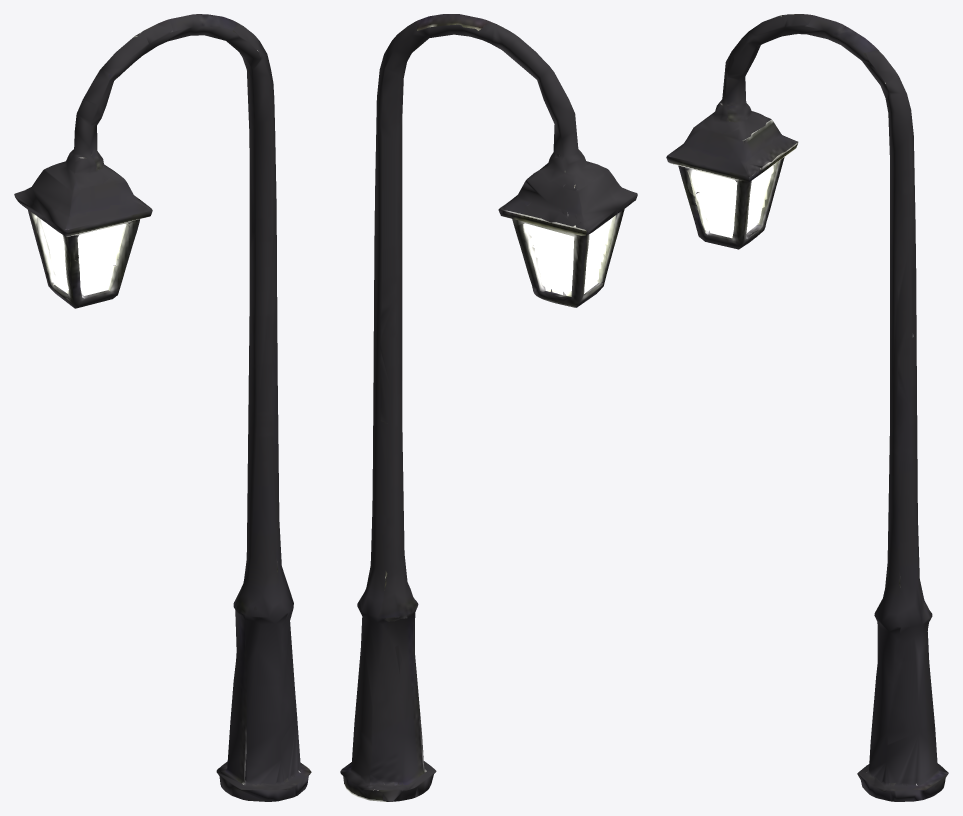
Rendered from prop-lamp.glb.
3 views of the same model, side by side, from view 1: azimuth 30°, elevation 25°; view 2: azimuth 150°, elevation 25°; view 3: azimuth 330°, elevation 25° (orthographic). The views are drawn at different scales.
Parts seen in each view (by area): view 1: Mesh_0; view 2: Mesh_0; view 3: Mesh_0.
Part boxes in pixels (x1,y1,x2,y2): Mesh_0: (14,14,311,801); Mesh_0: (340,14,637,801); Mesh_0: (666,14,948,801).
Size of the model in its own units: 0.6642 by 1.91 by 0.2259.
1 material, 1 textured.
